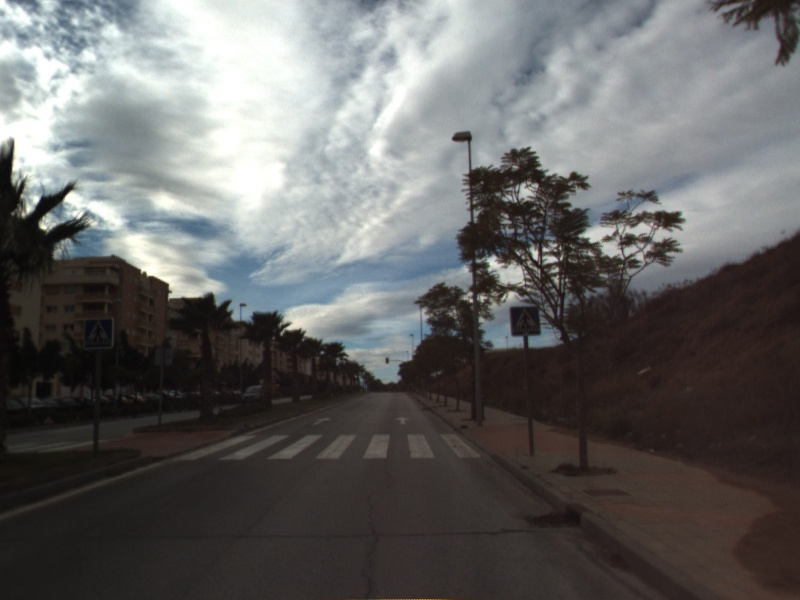STRAIGHT: (310, 415, 334, 427), (393, 414, 413, 426)
